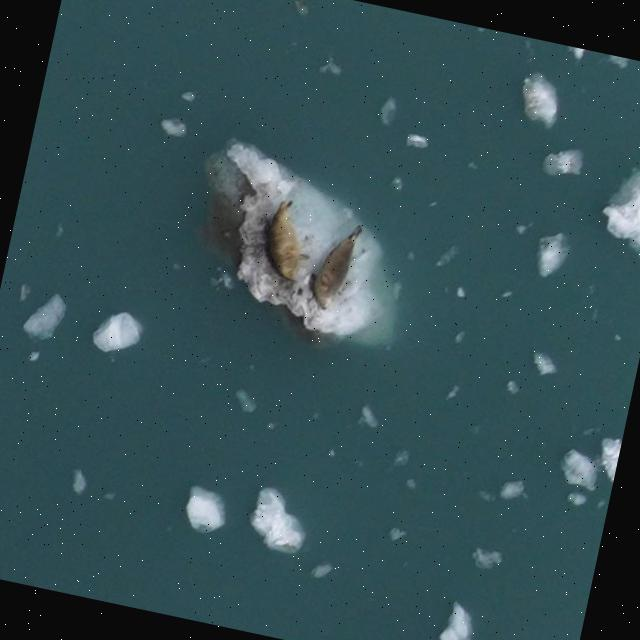seal: (303, 216, 362, 313), (255, 196, 312, 285)
